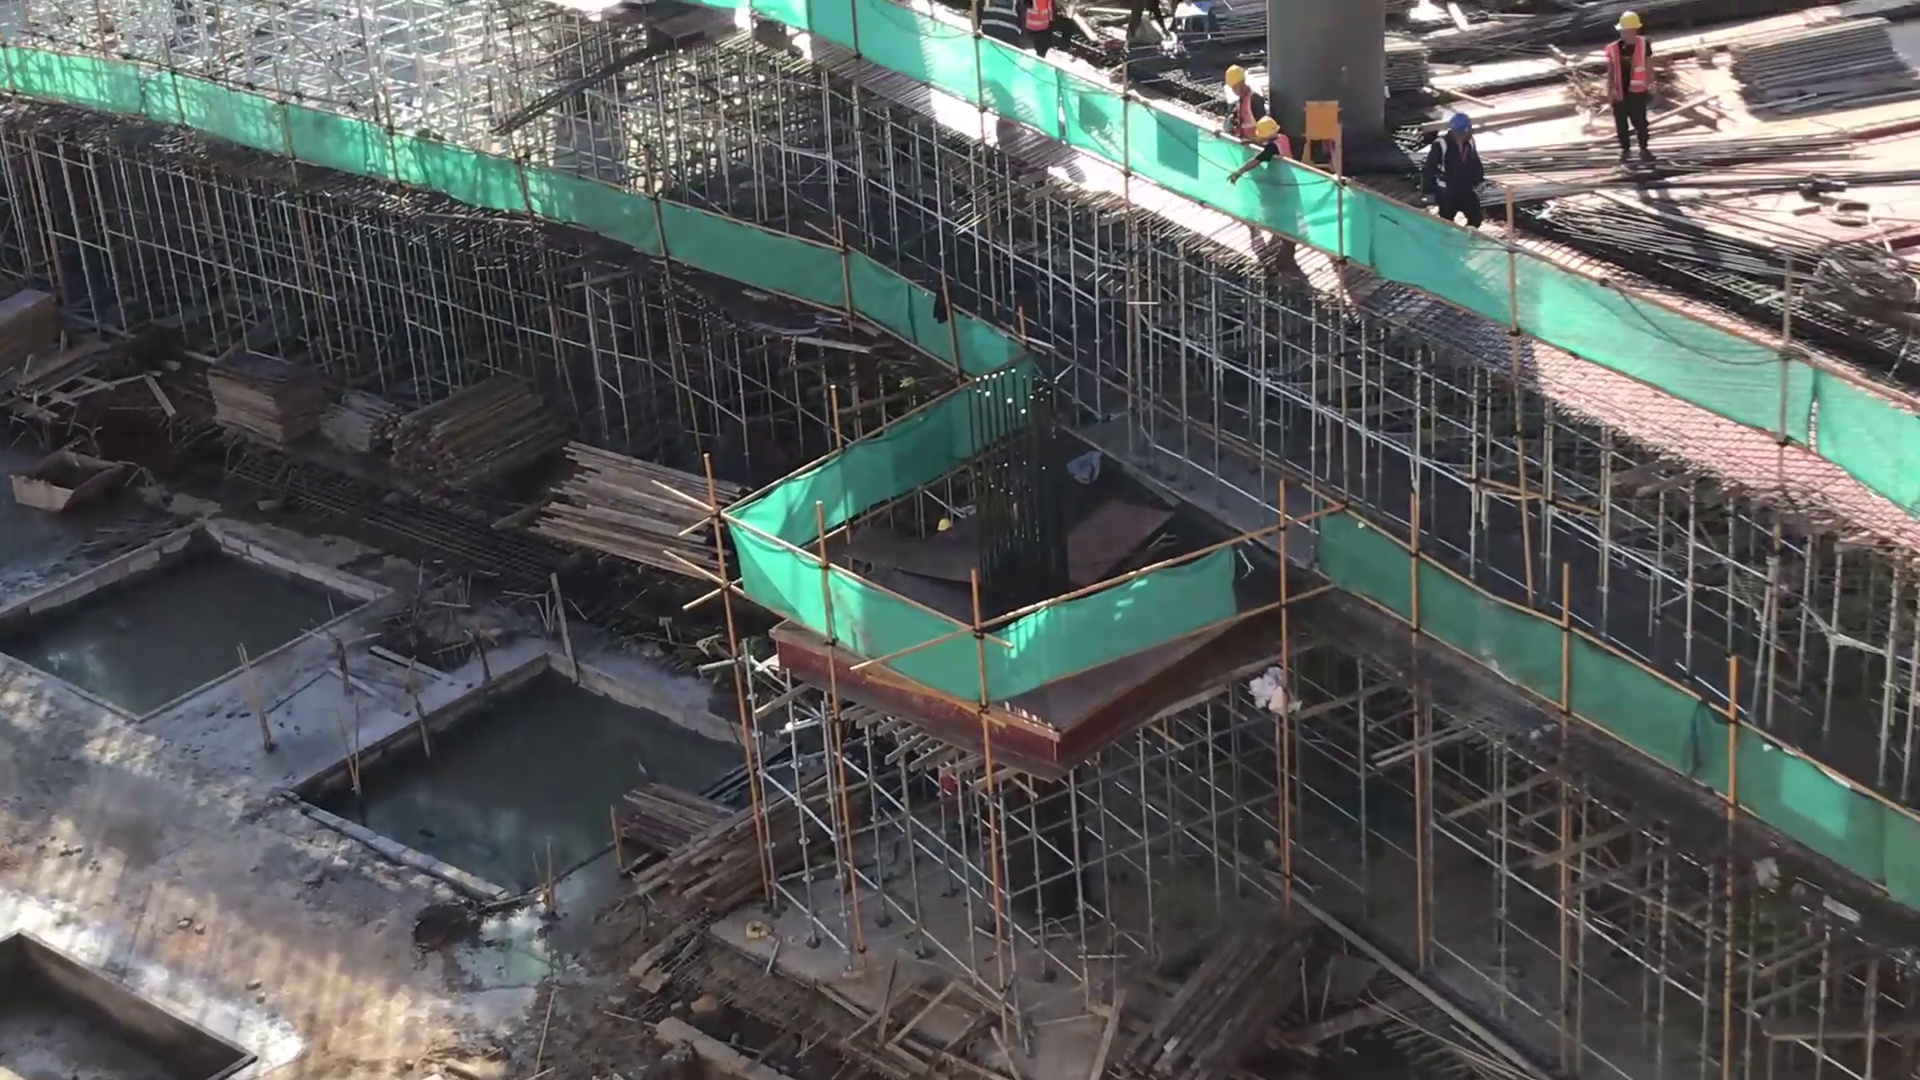helmet: (1594, 8, 1669, 41), (1439, 103, 1496, 134), (1202, 56, 1254, 88), (1250, 100, 1285, 141)
person: (1590, 7, 1673, 156), (1415, 104, 1486, 226), (1233, 101, 1278, 193), (1216, 57, 1259, 141)
vest: (1605, 31, 1650, 99), (1020, 3, 1069, 39)
